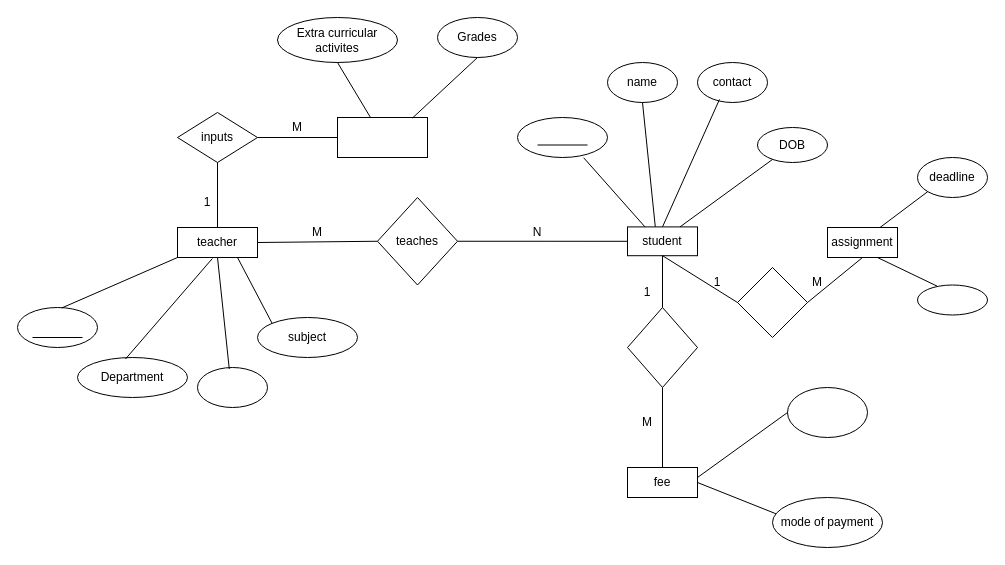
Some shapes in this 1005 by 565 pixel diagram are drawn without their labels. Each missing label, with the box of its shape:
amount: (786, 386, 868, 438)
classes: (196, 366, 268, 408)
does: (736, 266, 808, 338)
marks: (916, 284, 988, 315)
pays: (626, 306, 698, 388)
S_id (PK): (516, 116, 608, 158)
student records: (336, 116, 428, 158)
T_id (PK): (16, 306, 98, 348)
